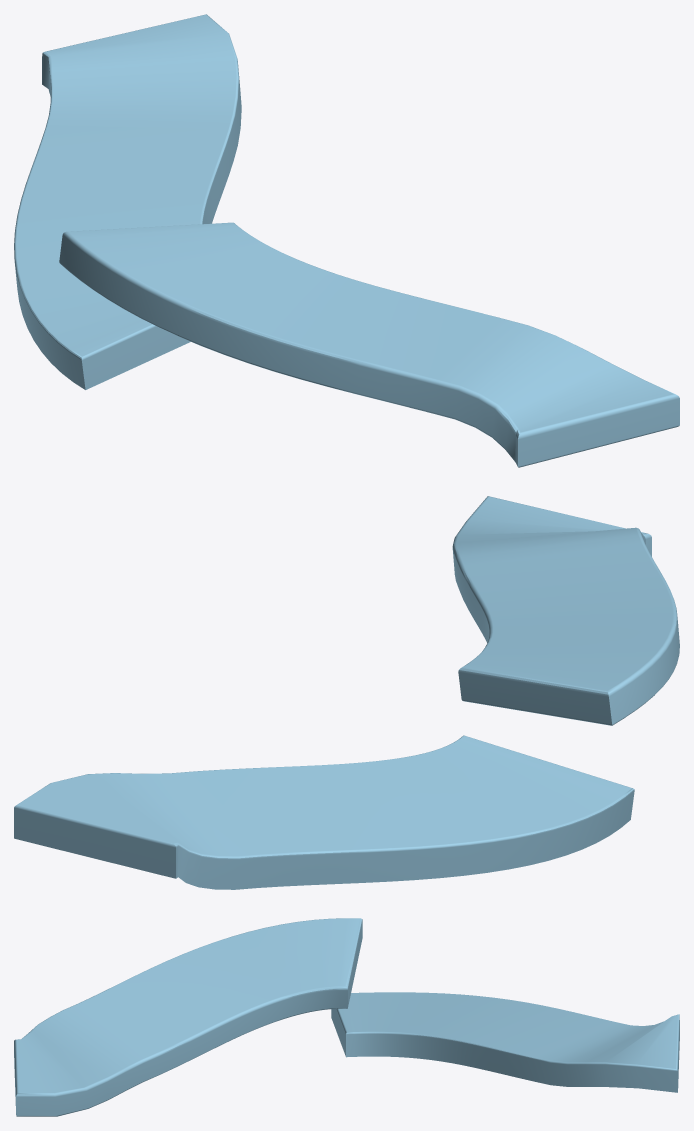
Rendered from Track_C_resubmit_4.fbx.
The picture shows the model from 3 angles, top to bottom: view 1: azimuth 30°, elevation 25°; view 2: azimuth 150°, elevation 25°; view 3: azimuth 270°, elevation 25°; orthographic projection. The views are drawn at different scales.
Visible parts, largest first — view 1: plane4; view 2: plane4; view 3: plane4.
Part boxes in pixels (box(x1,y1,x2,y2)): plane4: box(14, 14, 679, 467); plane4: box(14, 496, 679, 889); plane4: box(14, 918, 679, 1116).
Bounding box in the file's own units: 8 × 2.92 × 17.63.
